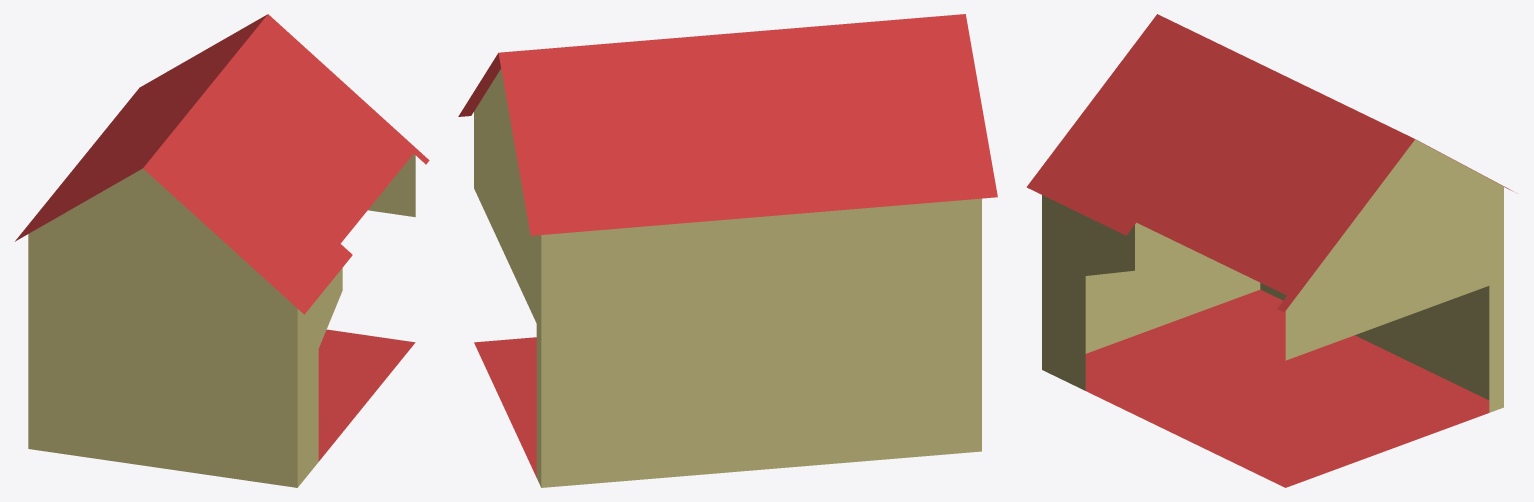
3 renders of one model, left to right at view 1: azimuth 30°, elevation 25°; view 2: azimuth 150°, elevation 25°; view 3: azimuth 270°, elevation 25°, orthographic. The views are drawn at different scales.
Bounding box in the file's own units: 22.48 × 22.13 × 15.21.
